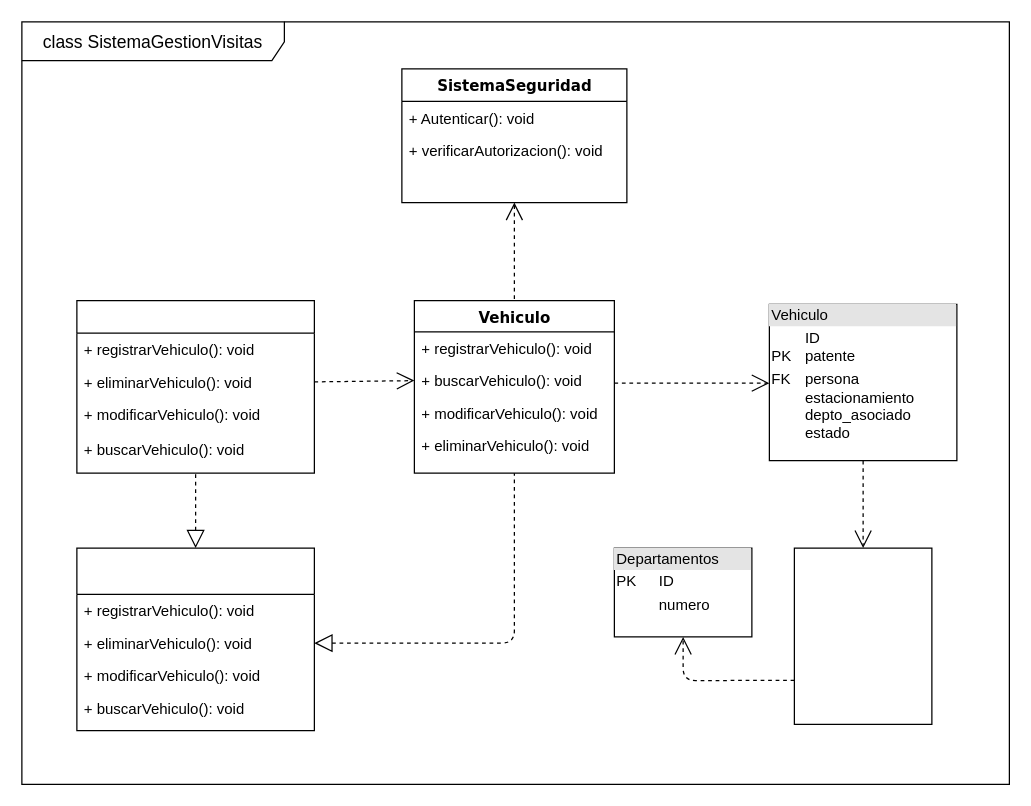
The diagram is 1031 pixels wide and 806 high, and some of its shapes have lost their labels. Here are the shapes that lost their labels. From the top down, the box of each, then its label:
(76, 299, 314, 473): SistemaGestionVisitas
(76, 547, 314, 731): <<Interface>> Vehiculo
(793, 547, 932, 724): Persona PK ID FK departamento nombre rut email telefono tipo
